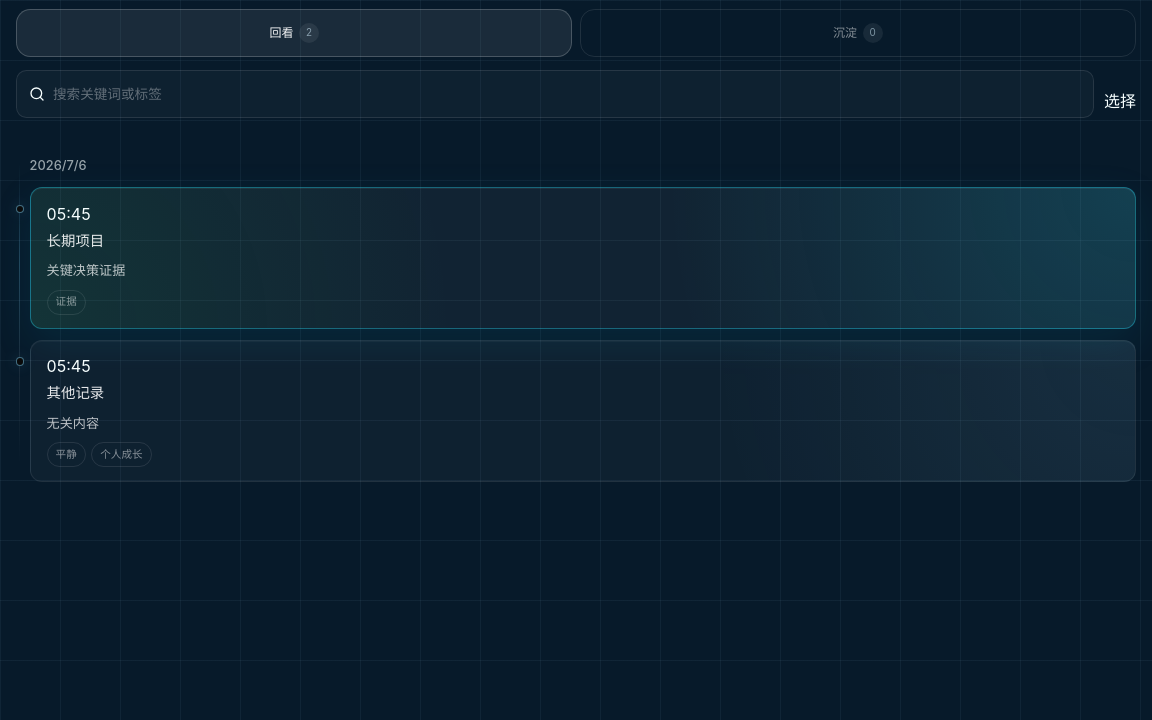
Scenario: PastRepository › searches records by title, content, and tags
Type "关键决策" into the search field named "搜索记录" at (567, 94), box x1=53 y1=84 x2=1081 y2=105
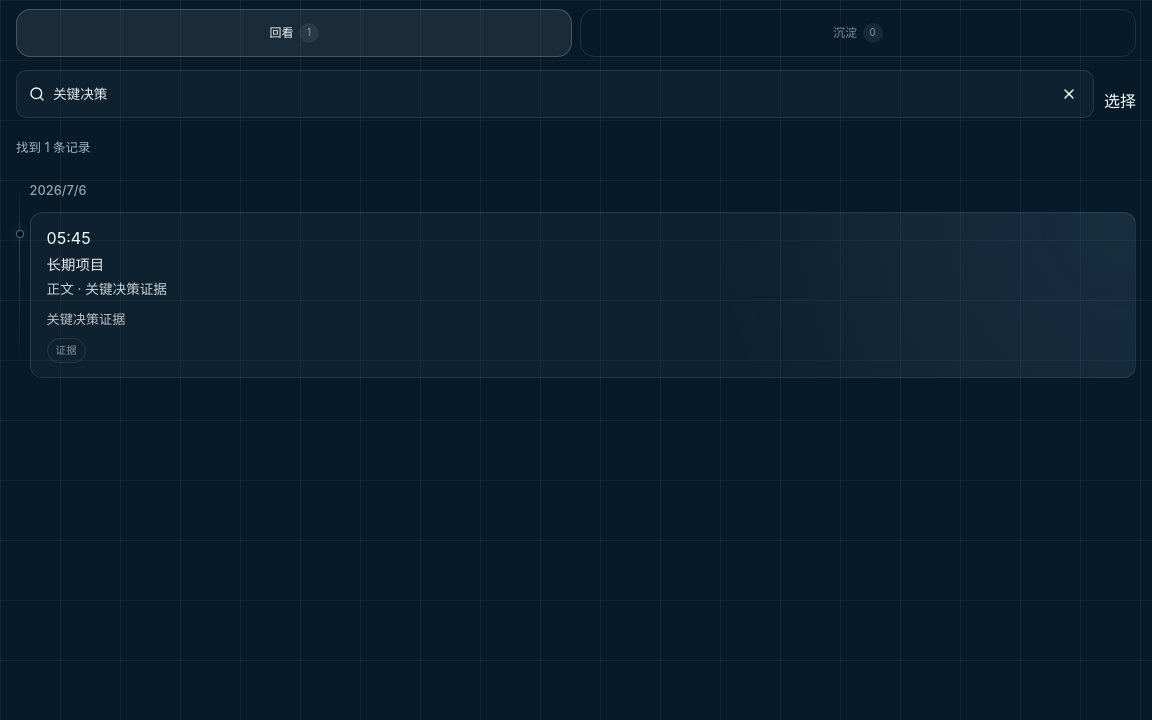
Expected: the text "长期项目" is shown, x1=47 y1=256 x2=104 y2=273
Result: the text "其他记录" is gone
Replace the text in the search field named "搜索记录" with "证据" at (567, 94), box x1=53 y1=84 x2=1081 y2=105
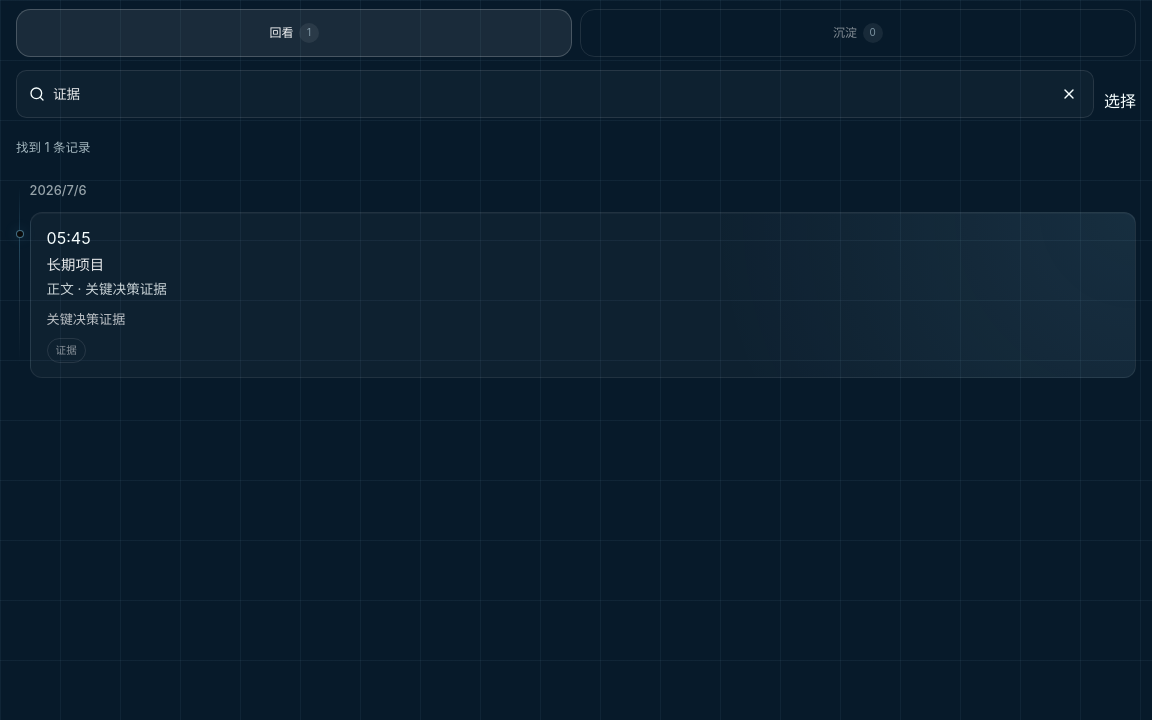
Expected: the text "长期项目" is shown, x1=47 y1=256 x2=104 y2=273
Click the button named "清除搜索" at (1069, 94), box x1=1047 y1=72 x2=1091 y2=116
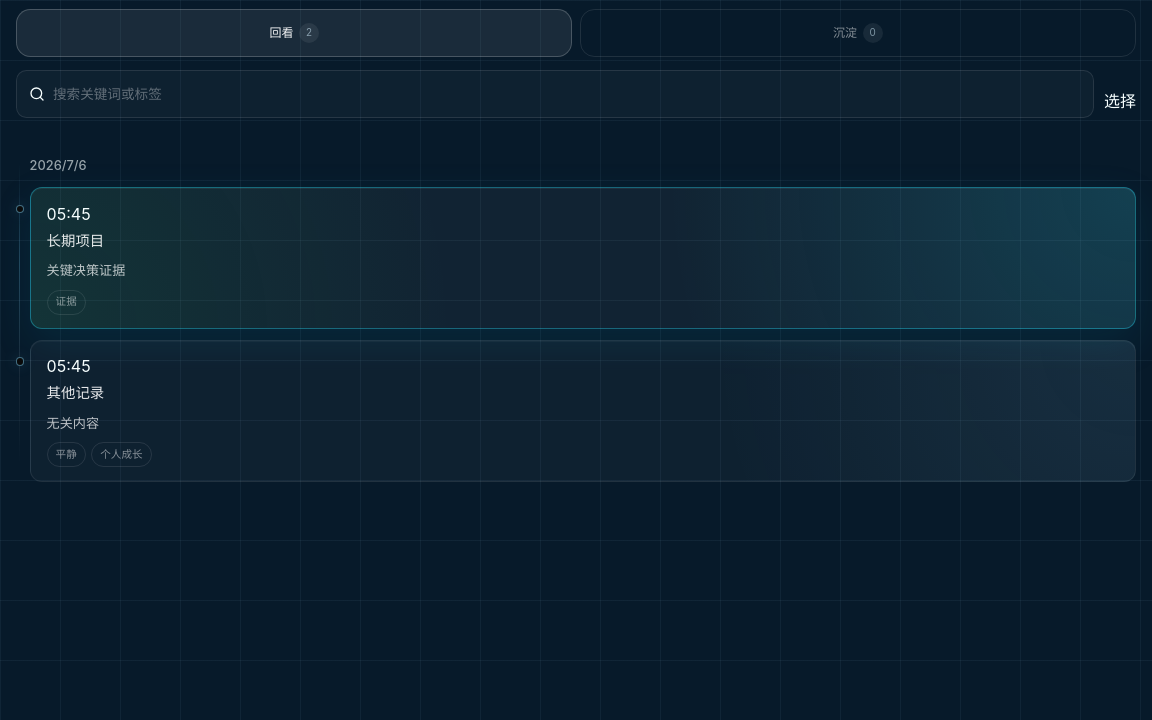
Result: the search field named "搜索记录" is empty at x1=53 y1=84 x2=1081 y2=105
